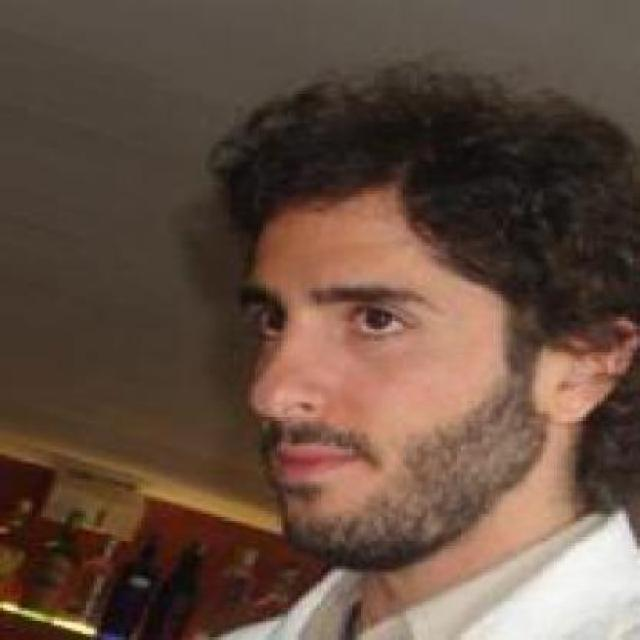closed-mouth: (255, 439, 372, 490)
